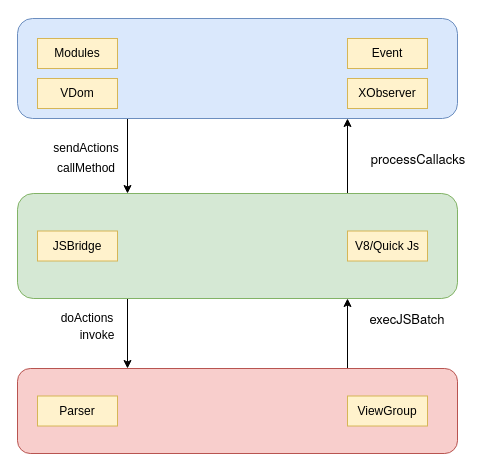
This 483x471 diagram has some shape labels left out. The shapes that lost their labels are listed below. From the top down, each one's box as (x1, y1, x2, y2) in pixels, then its label:
(16, 18, 458, 118): JavaScript Side 1.编译节点并发送渲染指令 2.处理回调事件
(16, 192, 458, 298): JNI 1.执行JS文件 2.JSFramework层和java层 的通信桥梁
(16, 368, 458, 454): Native 1.渲染页面 2.执行回调
